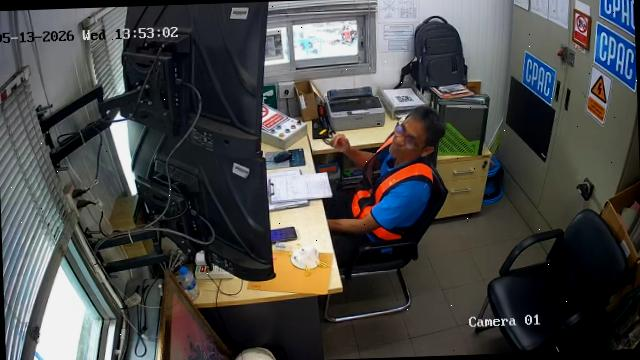Head: (391, 106, 445, 161)
People: (326, 106, 445, 265)
Phone: (271, 227, 296, 243)
